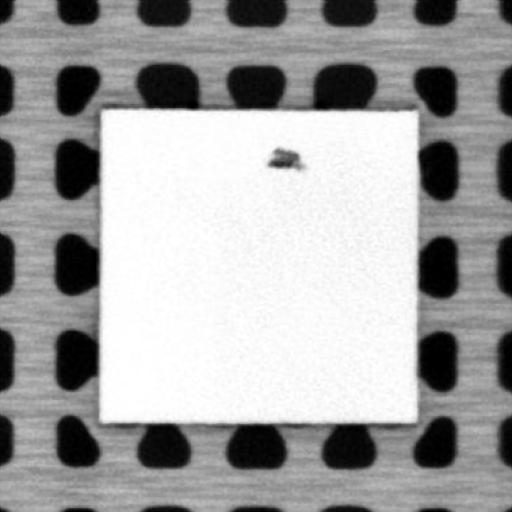DIE_INK: (265, 143, 305, 172)
